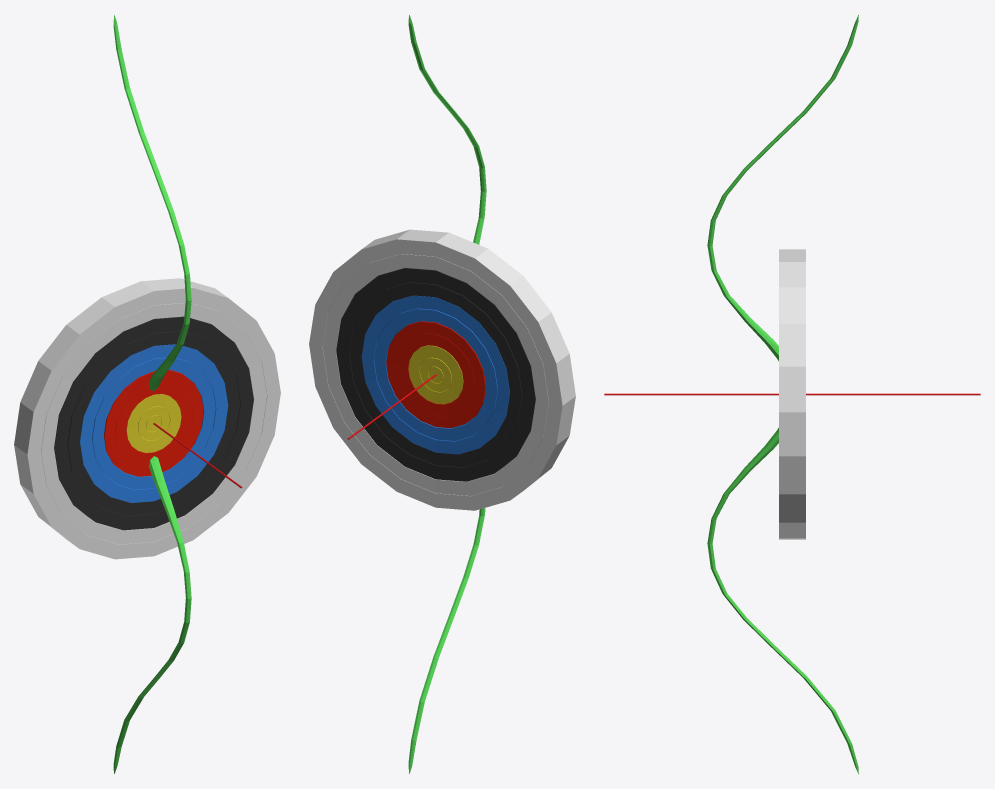
The model's file is archery.glb.
The picture shows the model from 3 angles, left to right: view 1: azimuth 30°, elevation 25°; view 2: azimuth 150°, elevation 25°; view 3: azimuth 270°, elevation 25°; orthographic projection.
Visible parts, largest first — view 1: 1, 2, 3, 4, 5, bow, 6, 7, 8, 9, 10; view 2: 1, 2, 3, 4, 5, 6, 7, bow, 8, 9, 10; view 3: 1, bow, arrow.
Boxes of the visible parts, box(x1,y1,x2,y2) form: 1: box(14, 278, 280, 559); 2: box(41, 302, 266, 544); 3: box(54, 316, 253, 530); 4: box(67, 331, 240, 515); 5: box(80, 344, 228, 502); bow: box(113, 15, 191, 773); 6: box(92, 357, 215, 489); 7: box(104, 370, 203, 476); 8: box(115, 382, 192, 465); 9: box(126, 394, 181, 452); 10: box(138, 406, 169, 440); 1: box(309, 229, 575, 510); 2: box(323, 254, 548, 495); 3: box(336, 268, 535, 481); 4: box(349, 282, 522, 467); 5: box(361, 295, 509, 454); 6: box(374, 308, 497, 440); 7: box(386, 321, 485, 428); bow: box(408, 15, 486, 773); 8: box(397, 333, 474, 416); 9: box(408, 345, 463, 404); 10: box(420, 357, 451, 391); 1: box(779, 249, 805, 539); bow: box(707, 14, 858, 774); arrow: box(604, 393, 980, 395).
Size of the model in its own units: 0.9731 by 2.79 by 1.25.
